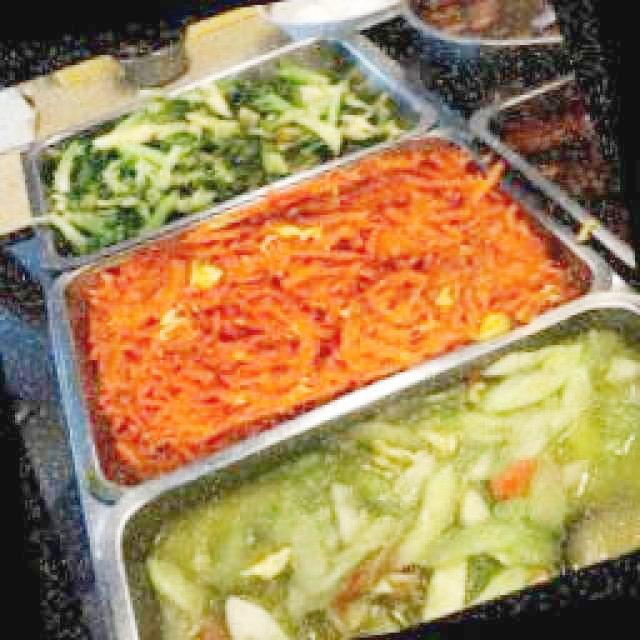carrot_eggs: (79, 280, 290, 432), (170, 243, 508, 335), (262, 211, 510, 334)
